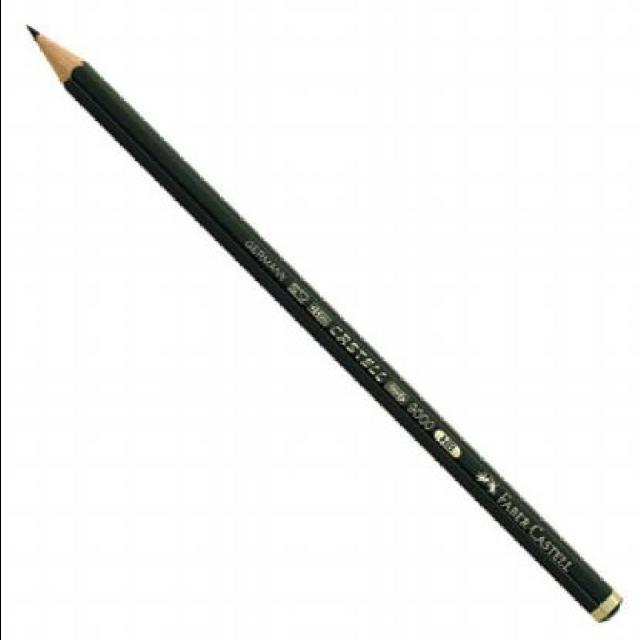Pencil: (22, 15, 100, 96)
